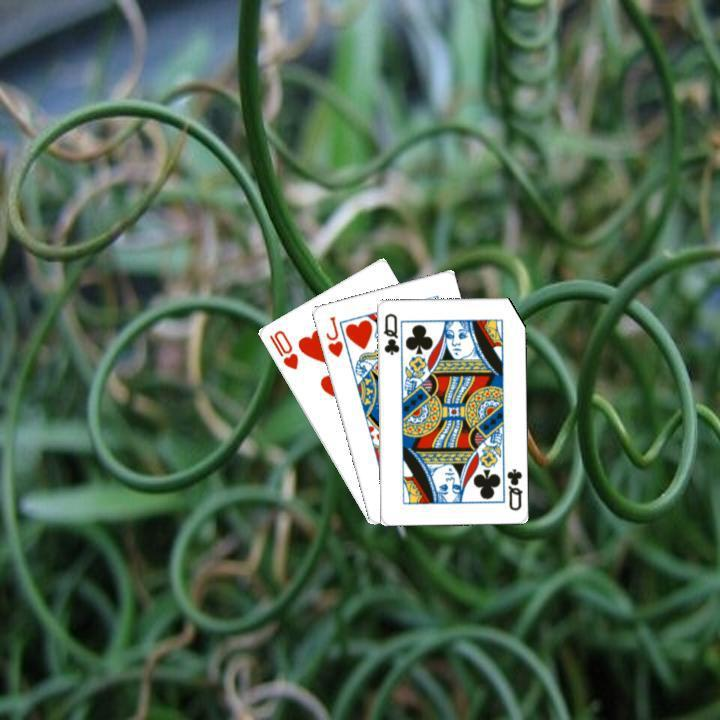10: (264, 326, 300, 372)
J: (321, 312, 345, 359)
Q: (379, 309, 401, 357), (502, 464, 524, 512)
